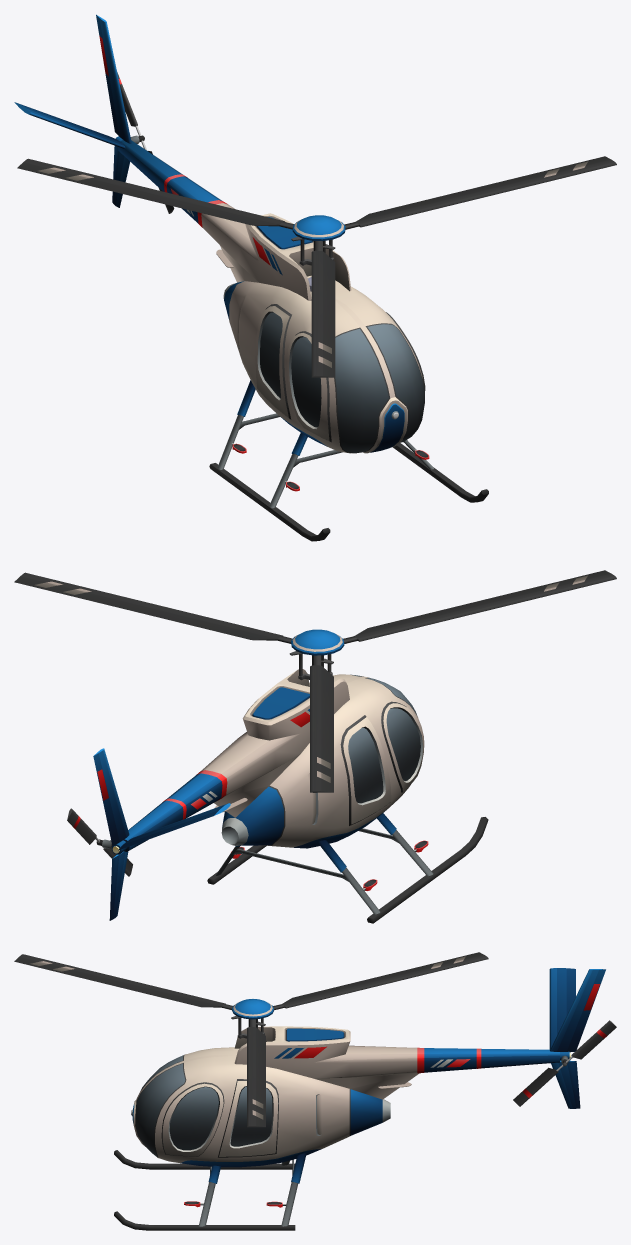
File: Service_Helicopter_1A.fbx
3 renders of one model, top to bottom at view 1: azimuth 30°, elevation 25°; view 2: azimuth 150°, elevation 25°; view 3: azimuth 270°, elevation 25°, orthographic. The views are drawn at different scales.
Parts seen in each view (by area): view 1: Service_Helicopter_1A, Main_Rotor_2A; view 2: Service_Helicopter_1A, Main_Rotor_2A, Tail_Rotor_2A; view 3: Service_Helicopter_1A, Main_Rotor_2A, Tail_Rotor_2A.
Part boxes in pixels (left/top/right/bottom): Service_Helicopter_1A: left=14, top=14, right=488, bottom=541; Main_Rotor_2A: left=17, top=156, right=616, bottom=377; Service_Helicopter_1A: left=93, top=669, right=488, bottom=923; Main_Rotor_2A: left=14, top=570, right=616, bottom=792; Tail_Rotor_2A: left=67, top=808, right=132, bottom=876; Service_Helicopter_1A: left=114, top=968, right=605, bottom=1230; Main_Rotor_2A: left=14, top=952, right=488, bottom=1127; Tail_Rotor_2A: left=513, top=1020, right=616, bottom=1106.
Size of the model in its own units: 6.37 by 3.9 by 9.27.
